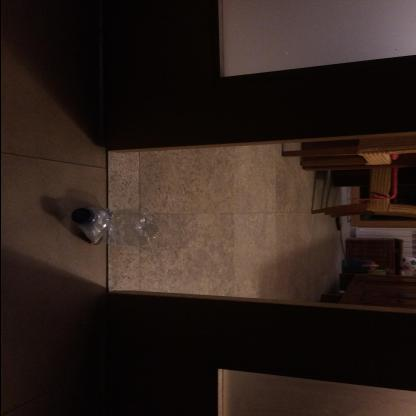plastik: (72, 207, 160, 249)
